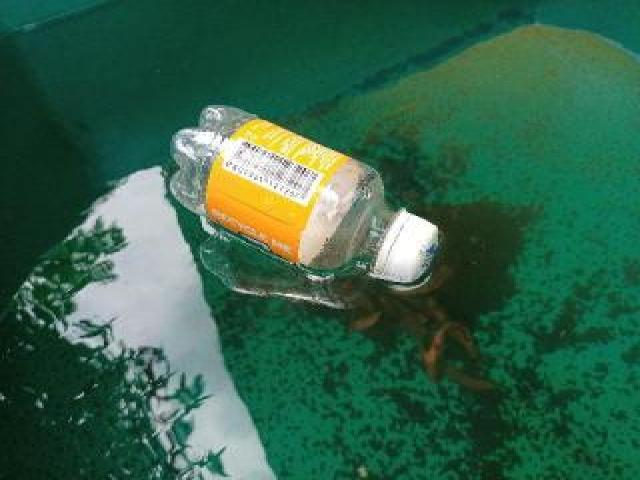Bottle: (162, 98, 448, 291)
